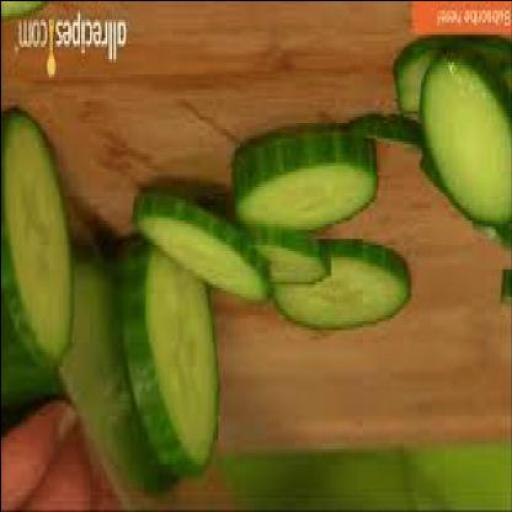biodegradable: (119, 235, 219, 481), (2, 110, 73, 375), (420, 42, 510, 229), (134, 195, 272, 308), (234, 131, 379, 235), (273, 240, 411, 336), (395, 42, 511, 124), (251, 232, 331, 286), (350, 112, 424, 150)
metal: (61, 258, 181, 511)
